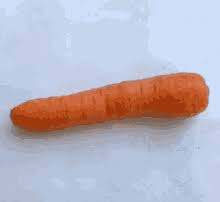carrot: (11, 72, 209, 134)
